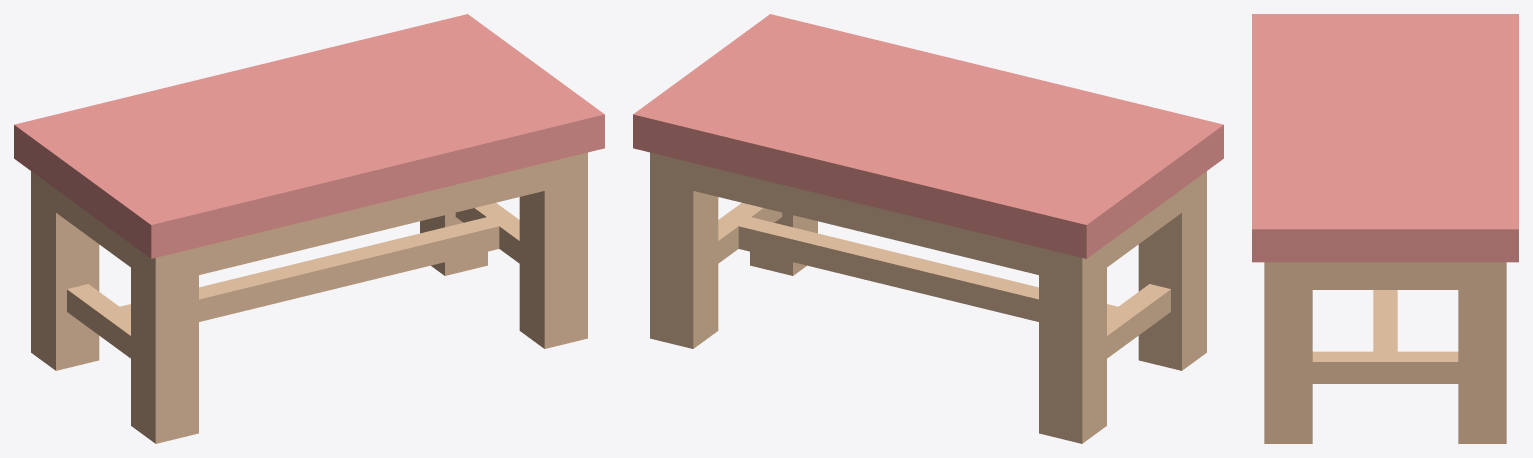
The model's file is benchCushionLow.gltf.
3 renders of one model, left to right at view 1: azimuth 30°, elevation 25°; view 2: azimuth 150°, elevation 25°; view 3: azimuth 270°, elevation 25°, orthographic. The views are drawn at different scales.
Visible parts, largest first — view 1: benchCushionLow(Clone); view 2: benchCushionLow(Clone); view 3: benchCushionLow(Clone).
Part boxes in pixels (bbox=[...]): benchCushionLow(Clone): bbox=[14, 14, 604, 443]; benchCushionLow(Clone): bbox=[633, 14, 1223, 443]; benchCushionLow(Clone): bbox=[1252, 14, 1518, 443].
Size of the model in its own units: 0.42 by 0.2 by 0.22.
